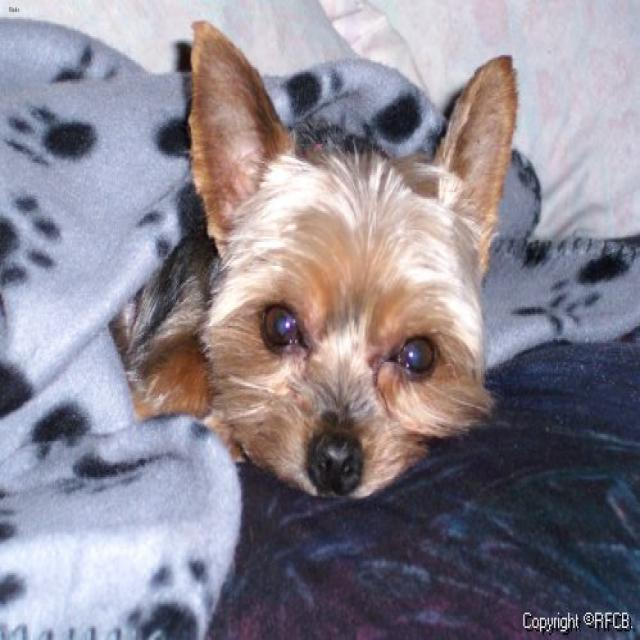dog: (190, 19, 513, 492)
